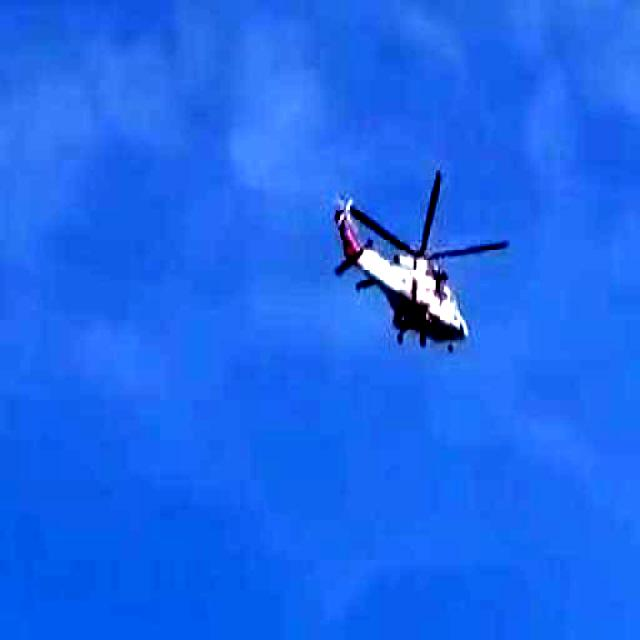drone: (265, 74, 591, 426)
